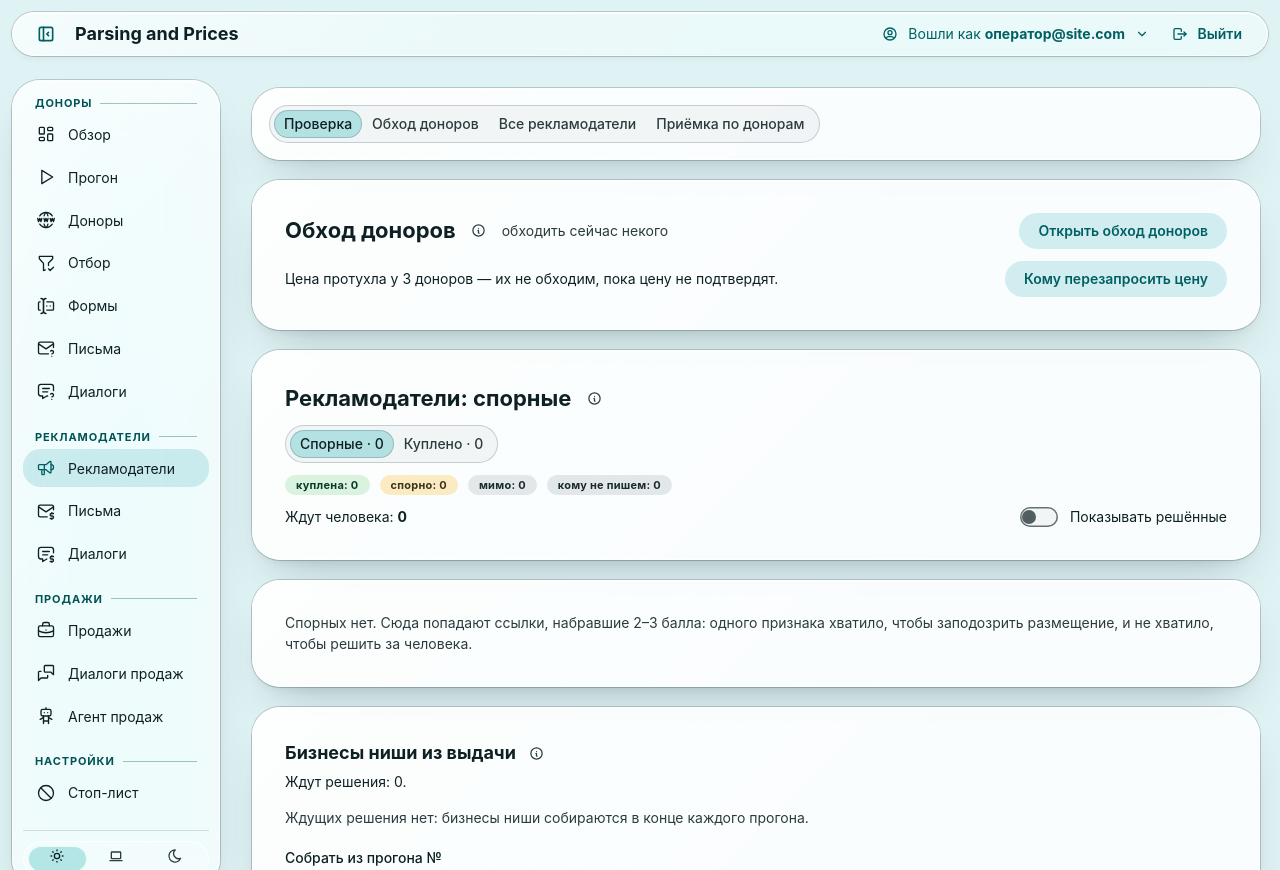
Scenario: протухшие цены на панели обхода › без права писать наружу — список без отметок и кнопок
Click the button "Кому перезапросить цену".
click(1116, 279)  # box left=1005, top=261, right=1227, bottom=297
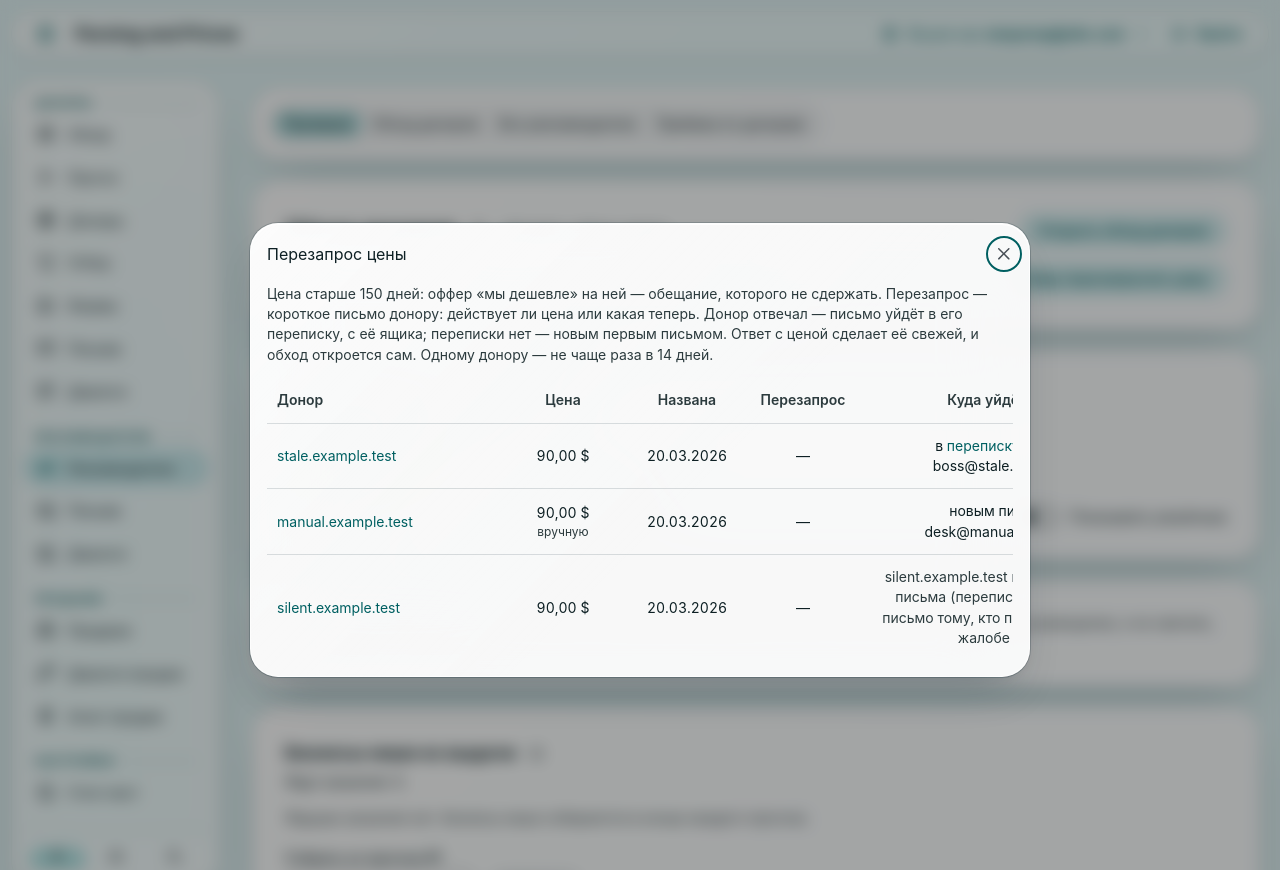
Expected: the link "stale.example.test" is shown, left=277, top=447, right=396, bottom=464
